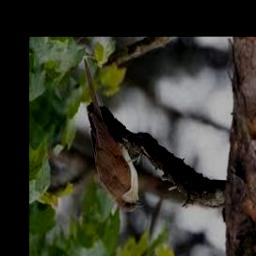Cuckoo: (84, 57, 144, 213)
